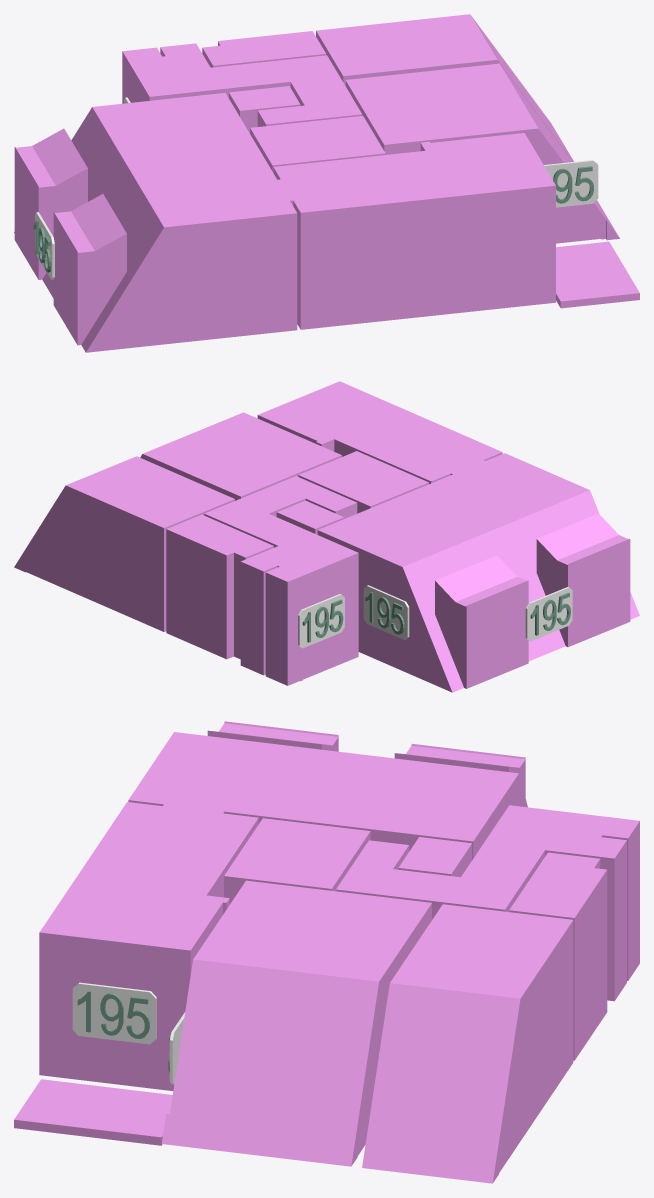
3 renders of one model, top to bottom at view 1: azimuth 30°, elevation 25°; view 2: azimuth 150°, elevation 25°; view 3: azimuth 270°, elevation 25°, orthographic. The views are drawn at different scales.
Parts seen in each view (by area): view 1: g_6, g_5, g_1, g_4, g_2, g_3, g_8, g_0, g_7, g_16, g_28; view 2: g_6, g_2, g_4, g_5, g_0, g_1, g_3, g_12, g_28, g_20, g_7; view 3: g_1, g_2, g_5, g_6, g_4, g_0, g_3, g_8, g_24, g_7.
Boxes of the visible parts, bbox=[...] form: g_6: bbox=[14, 92, 297, 352]; g_5: bbox=[273, 133, 555, 329]; g_1: bbox=[345, 63, 619, 243]; g_4: bbox=[122, 43, 362, 126]; g_2: bbox=[316, 14, 573, 161]; g_3: bbox=[250, 116, 385, 172]; g_8: bbox=[556, 241, 639, 308]; g_0: bbox=[202, 31, 326, 67]; g_7: bbox=[229, 86, 300, 133]; g_16: bbox=[544, 160, 598, 207]; g_28: bbox=[35, 212, 54, 279]; g_6: bbox=[317, 453, 639, 692]; g_2: bbox=[14, 456, 234, 631]; g_4: bbox=[204, 476, 358, 685]; g_5: bbox=[257, 381, 502, 483]; g_0: bbox=[166, 514, 273, 659]; g_1: bbox=[140, 412, 341, 500]; g_3: bbox=[298, 451, 428, 513]; g_12: bbox=[363, 585, 409, 639]; g_28: bbox=[525, 587, 572, 641]; g_20: bbox=[298, 594, 344, 648]; g_7: bbox=[276, 500, 343, 534]; g_1: bbox=[161, 880, 431, 1166]; g_2: bbox=[362, 904, 573, 1183]; g_5: bbox=[39, 802, 258, 1090]; g_6: bbox=[128, 721, 527, 860]; g_4: bbox=[336, 805, 639, 1001]; g_0: bbox=[509, 852, 607, 1060]; g_3: bbox=[224, 818, 370, 904]; g_8: bbox=[14, 1079, 172, 1145]; g_24: bbox=[72, 982, 156, 1044]; g_7: bbox=[398, 837, 471, 877].
Size of the model in its own units: 13.31 by 2.71 by 10.12.
